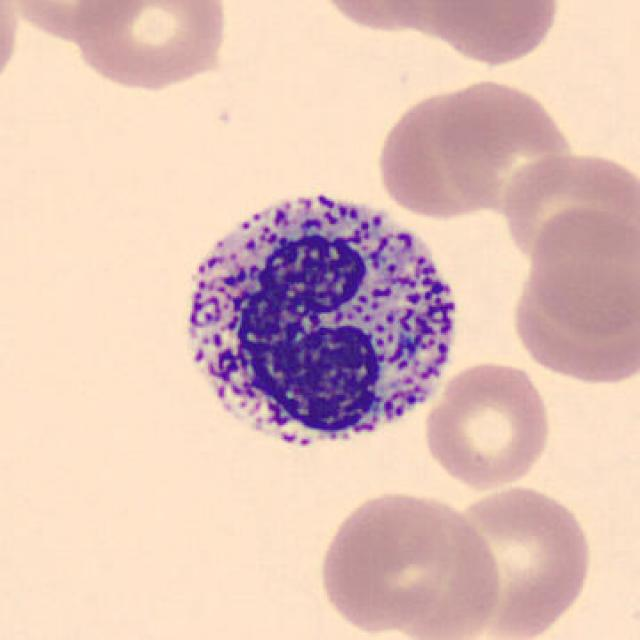Neutrophil: (165, 173, 471, 476)
RBC: (313, 485, 489, 636), (444, 481, 596, 640), (427, 74, 581, 208), (372, 81, 503, 222), (420, 358, 554, 492), (496, 146, 638, 268), (512, 258, 640, 384), (523, 202, 638, 338), (73, 0, 231, 93), (425, 0, 563, 67), (3, 0, 145, 42), (373, 0, 518, 39), (309, 0, 437, 35), (0, 0, 23, 100)
